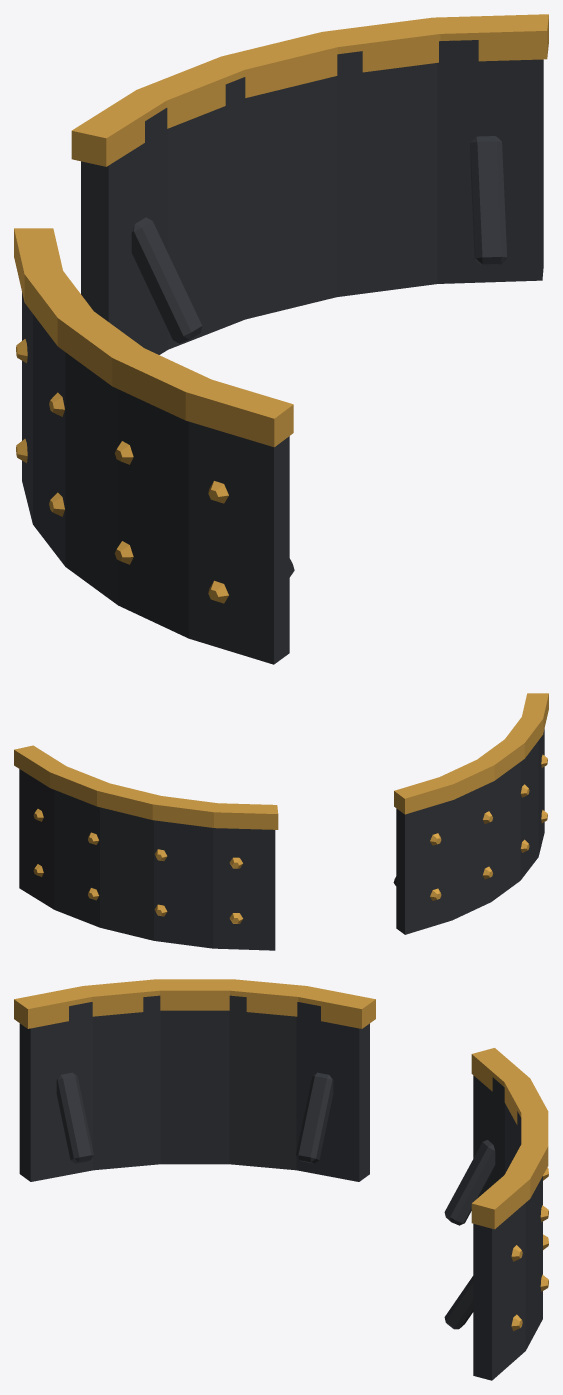
Rendered from BubbleDressB1.obj.
3 views of the same model, one above another, from view 1: azimuth 30°, elevation 25°; view 2: azimuth 150°, elevation 25°; view 3: azimuth 270°, elevation 25° (orthographic). The views are drawn at different scales.
Parts seen in each view (by area): view 1: BubbleDressB1; view 2: BubbleDressB1; view 3: BubbleDressB1.
Boxes of the visible parts, x1=… form: BubbleDressB1: x1=14, y1=14, x2=548, y2=664; BubbleDressB1: x1=14, y1=693, x2=548, y2=950; BubbleDressB1: x1=14, y1=979, x2=548, y2=1380.
Bounding box in the file's own units: 0.9974 × 0.35 × 0.9774.
